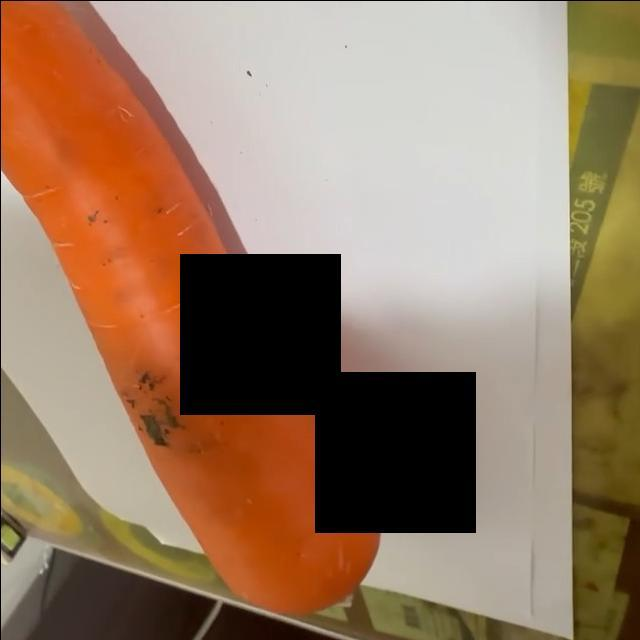carrot: (1, 1, 381, 619)
